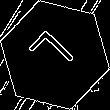L_SE: (26, 26, 84, 84)
